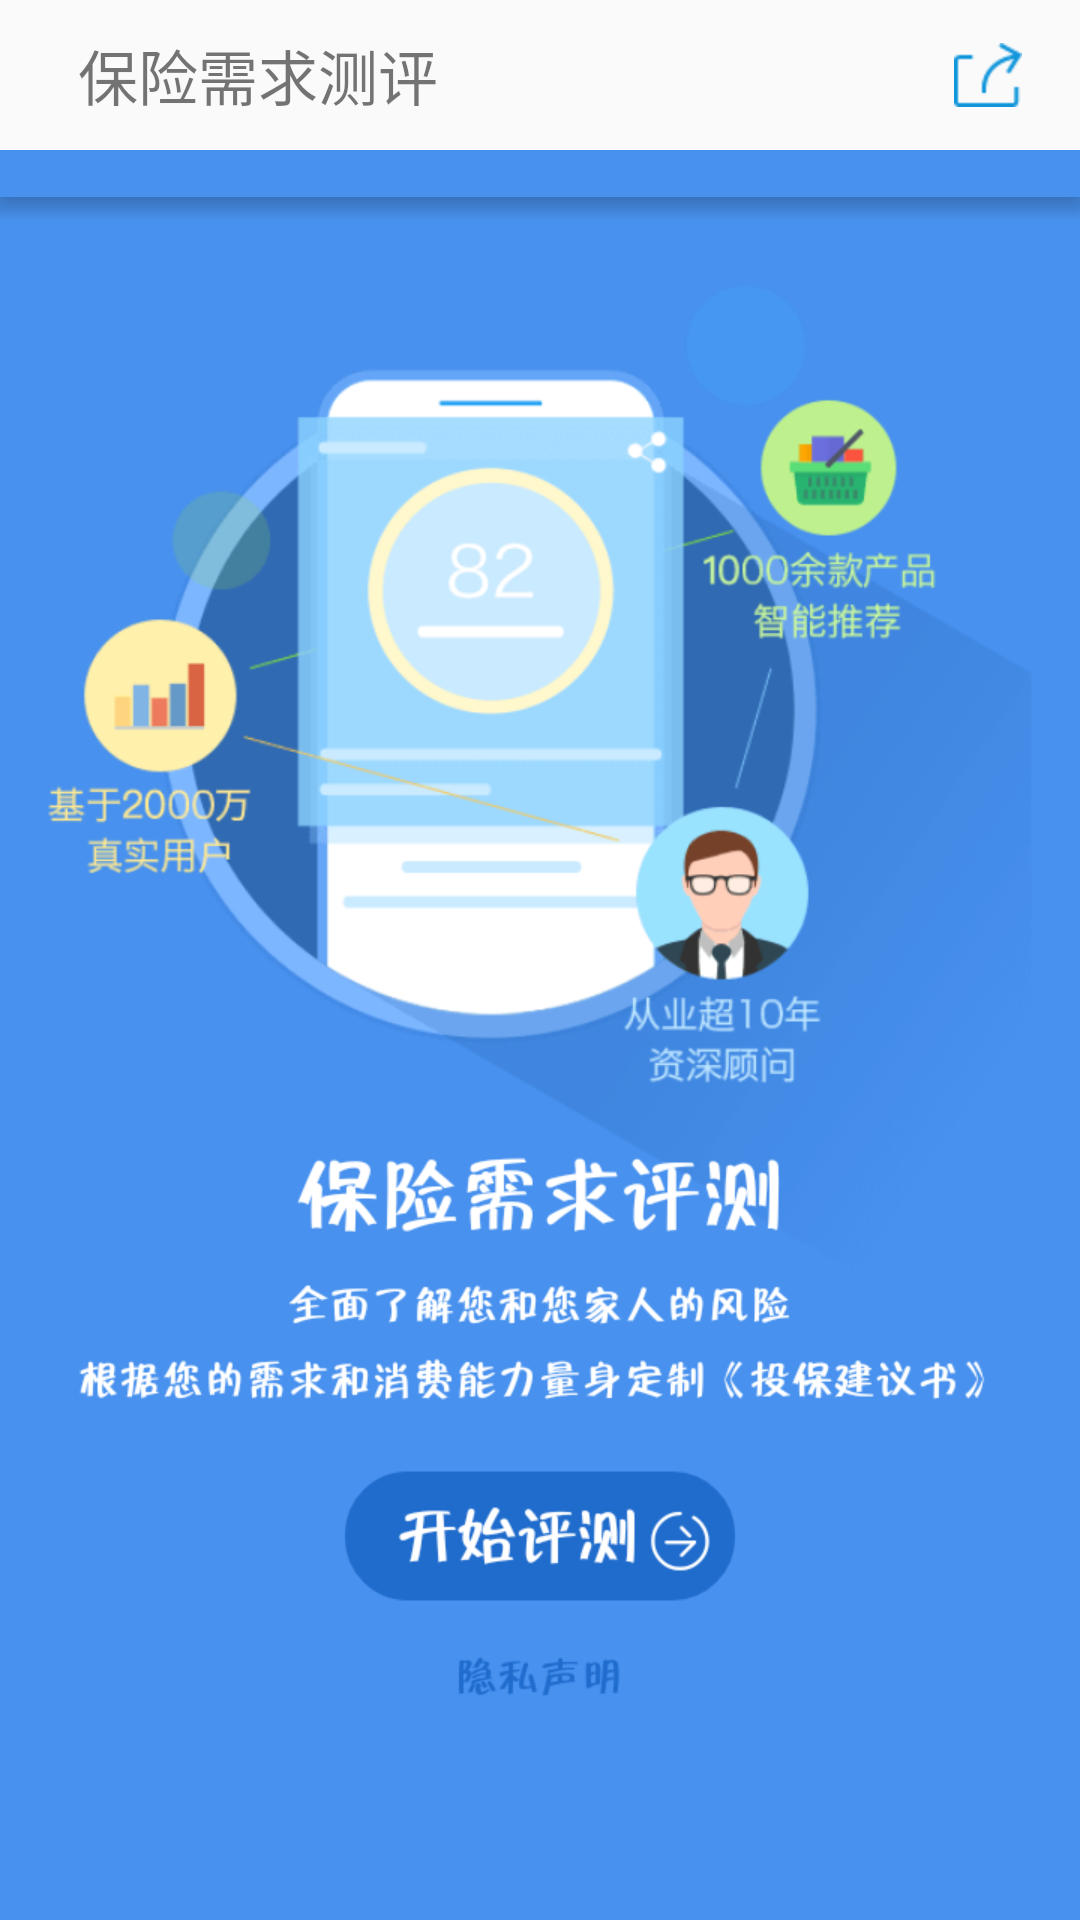

Screen size 1080 x 1920. Icon name, then its box in pixels as (x1, y1, x2, y2):
share: (954, 43, 1022, 107)
